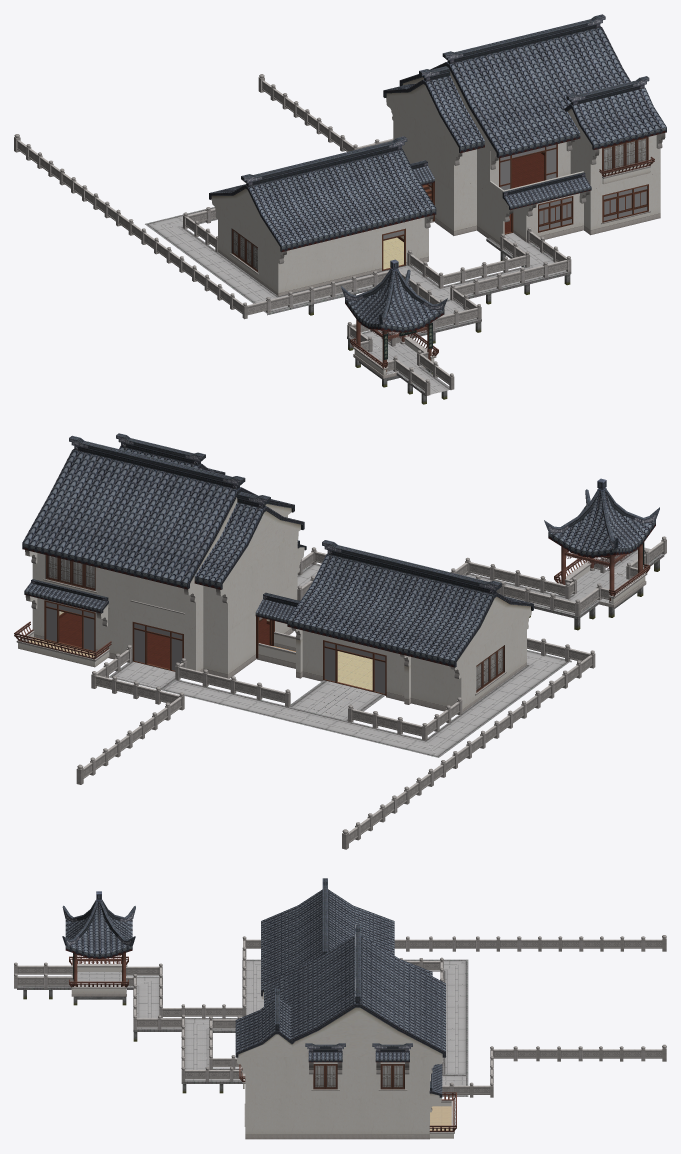
The model's file is house_0130003.FBX.
3 views of the same model, one above another, from view 1: azimuth 30°, elevation 25°; view 2: azimuth 150°, elevation 25°; view 3: azimuth 270°, elevation 25° (orthographic). The views are drawn at different scales.
Parts seen in each view (by area): view 1: house_0130003_floor_100_lg, house_0130003_roof_206_00, house_0130003_roof_100_00, house_0130003_outwall_100_14, house_0130003_outwall_200_02, house_0130003_outwall_100_13, house_0130003_floor_205_00, house_0130003_floor_203_00, house_0130003_outwall_100_07, house_0130003_floor_105_00, house_0130003_floor_103_00, house_130003_innerwall_200_00 (+7 smaller); view 2: house_0130003_floor_100_lg, house_0130003_roof_206_00, house_0130003_roof_100_00, house_0130003_outwall_100_12, house_0130003_outwall_200_05, house_0130003_outwall_200_02, house_0130003_outwall_100_05, house_0130003_outwall_100_13, house_0130003_floor_103_00, house_0130003_floor_104_00, house_0130003_outwall_100_02, house_0130003_floor_100_01 (+7 smaller); view 3: house_0130003_floor_100_lg, house_0130003_roof_206_00, house_0130003_roof_100_00, house_0130003_outwall_100_06, house_0130003_outwall_200_06, house_0130003_floor_202_00, house_0130003_tcx_100_09, house_0130003_floor_100_01, house_0130003_tcx_200_06.
Boxes of the visible parts, x1,y1,x2,y2 form: house_0130003_floor_100_lg: [14, 74, 571, 404]; house_0130003_roof_206_00: [383, 14, 666, 169]; house_0130003_roof_100_00: [209, 136, 591, 263]; house_0130003_outwall_100_14: [278, 217, 428, 293]; house_0130003_outwall_200_02: [393, 103, 453, 188]; house_0130003_outwall_100_13: [218, 204, 278, 292]; house_0130003_floor_205_00: [499, 144, 557, 190]; house_0130003_floor_203_00: [599, 137, 654, 184]; house_0130003_outwall_100_07: [590, 172, 660, 229]; house_0130003_floor_105_00: [601, 184, 650, 224]; house_0130003_floor_103_00: [422, 184, 573, 233]; house_130003_innerwall_200_00: [490, 138, 590, 186]; house_0130003_floor_100_lg: [76, 478, 666, 849]; house_0130003_roof_206_00: [22, 433, 304, 603]; house_0130003_roof_100_00: [24, 540, 533, 678]; house_0130003_outwall_100_12: [296, 630, 461, 706]; house_0130003_outwall_200_05: [32, 553, 195, 625]; house_0130003_outwall_200_02: [228, 535, 293, 628]; house_0130003_outwall_100_05: [32, 598, 195, 670]; house_0130003_outwall_100_13: [461, 614, 526, 709]; house_0130003_floor_103_00: [132, 618, 269, 671]; house_0130003_floor_104_00: [44, 600, 95, 652]; house_0130003_outwall_100_02: [228, 584, 293, 674]; house_0130003_floor_100_01: [14, 621, 111, 667]; house_0130003_floor_100_lg: [14, 891, 666, 1097]; house_0130003_roof_206_00: [235, 925, 445, 1074]; house_0130003_roof_100_00: [261, 878, 442, 1112]; house_0130003_outwall_100_06: [245, 1098, 429, 1134]; house_0130003_outwall_200_06: [245, 1057, 429, 1095]; house_0130003_floor_202_00: [311, 1064, 430, 1090]; house_0130003_tcx_100_09: [245, 1134, 429, 1139]; house_0130003_floor_100_01: [429, 1092, 456, 1138]; house_0130003_tcx_200_06: [245, 1096, 429, 1098].
Bounding box in the file's own units: 2990 × 1117 × 4274.
108 materials, 107 textured.
